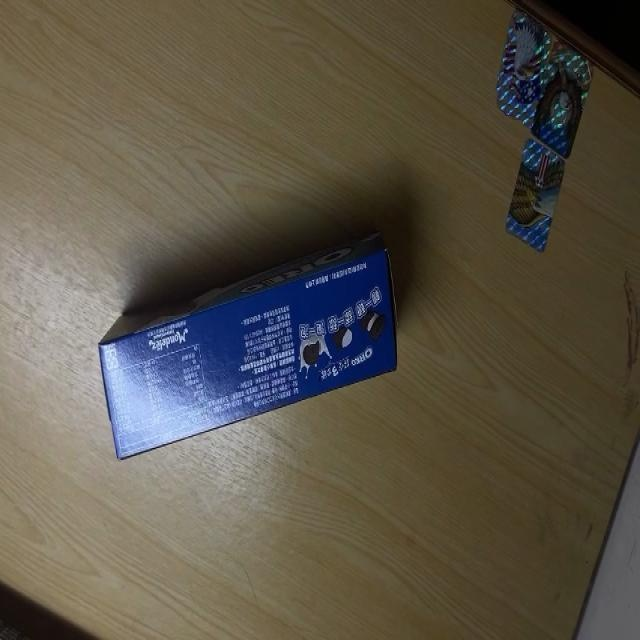Oreo: (98, 230, 402, 465)
